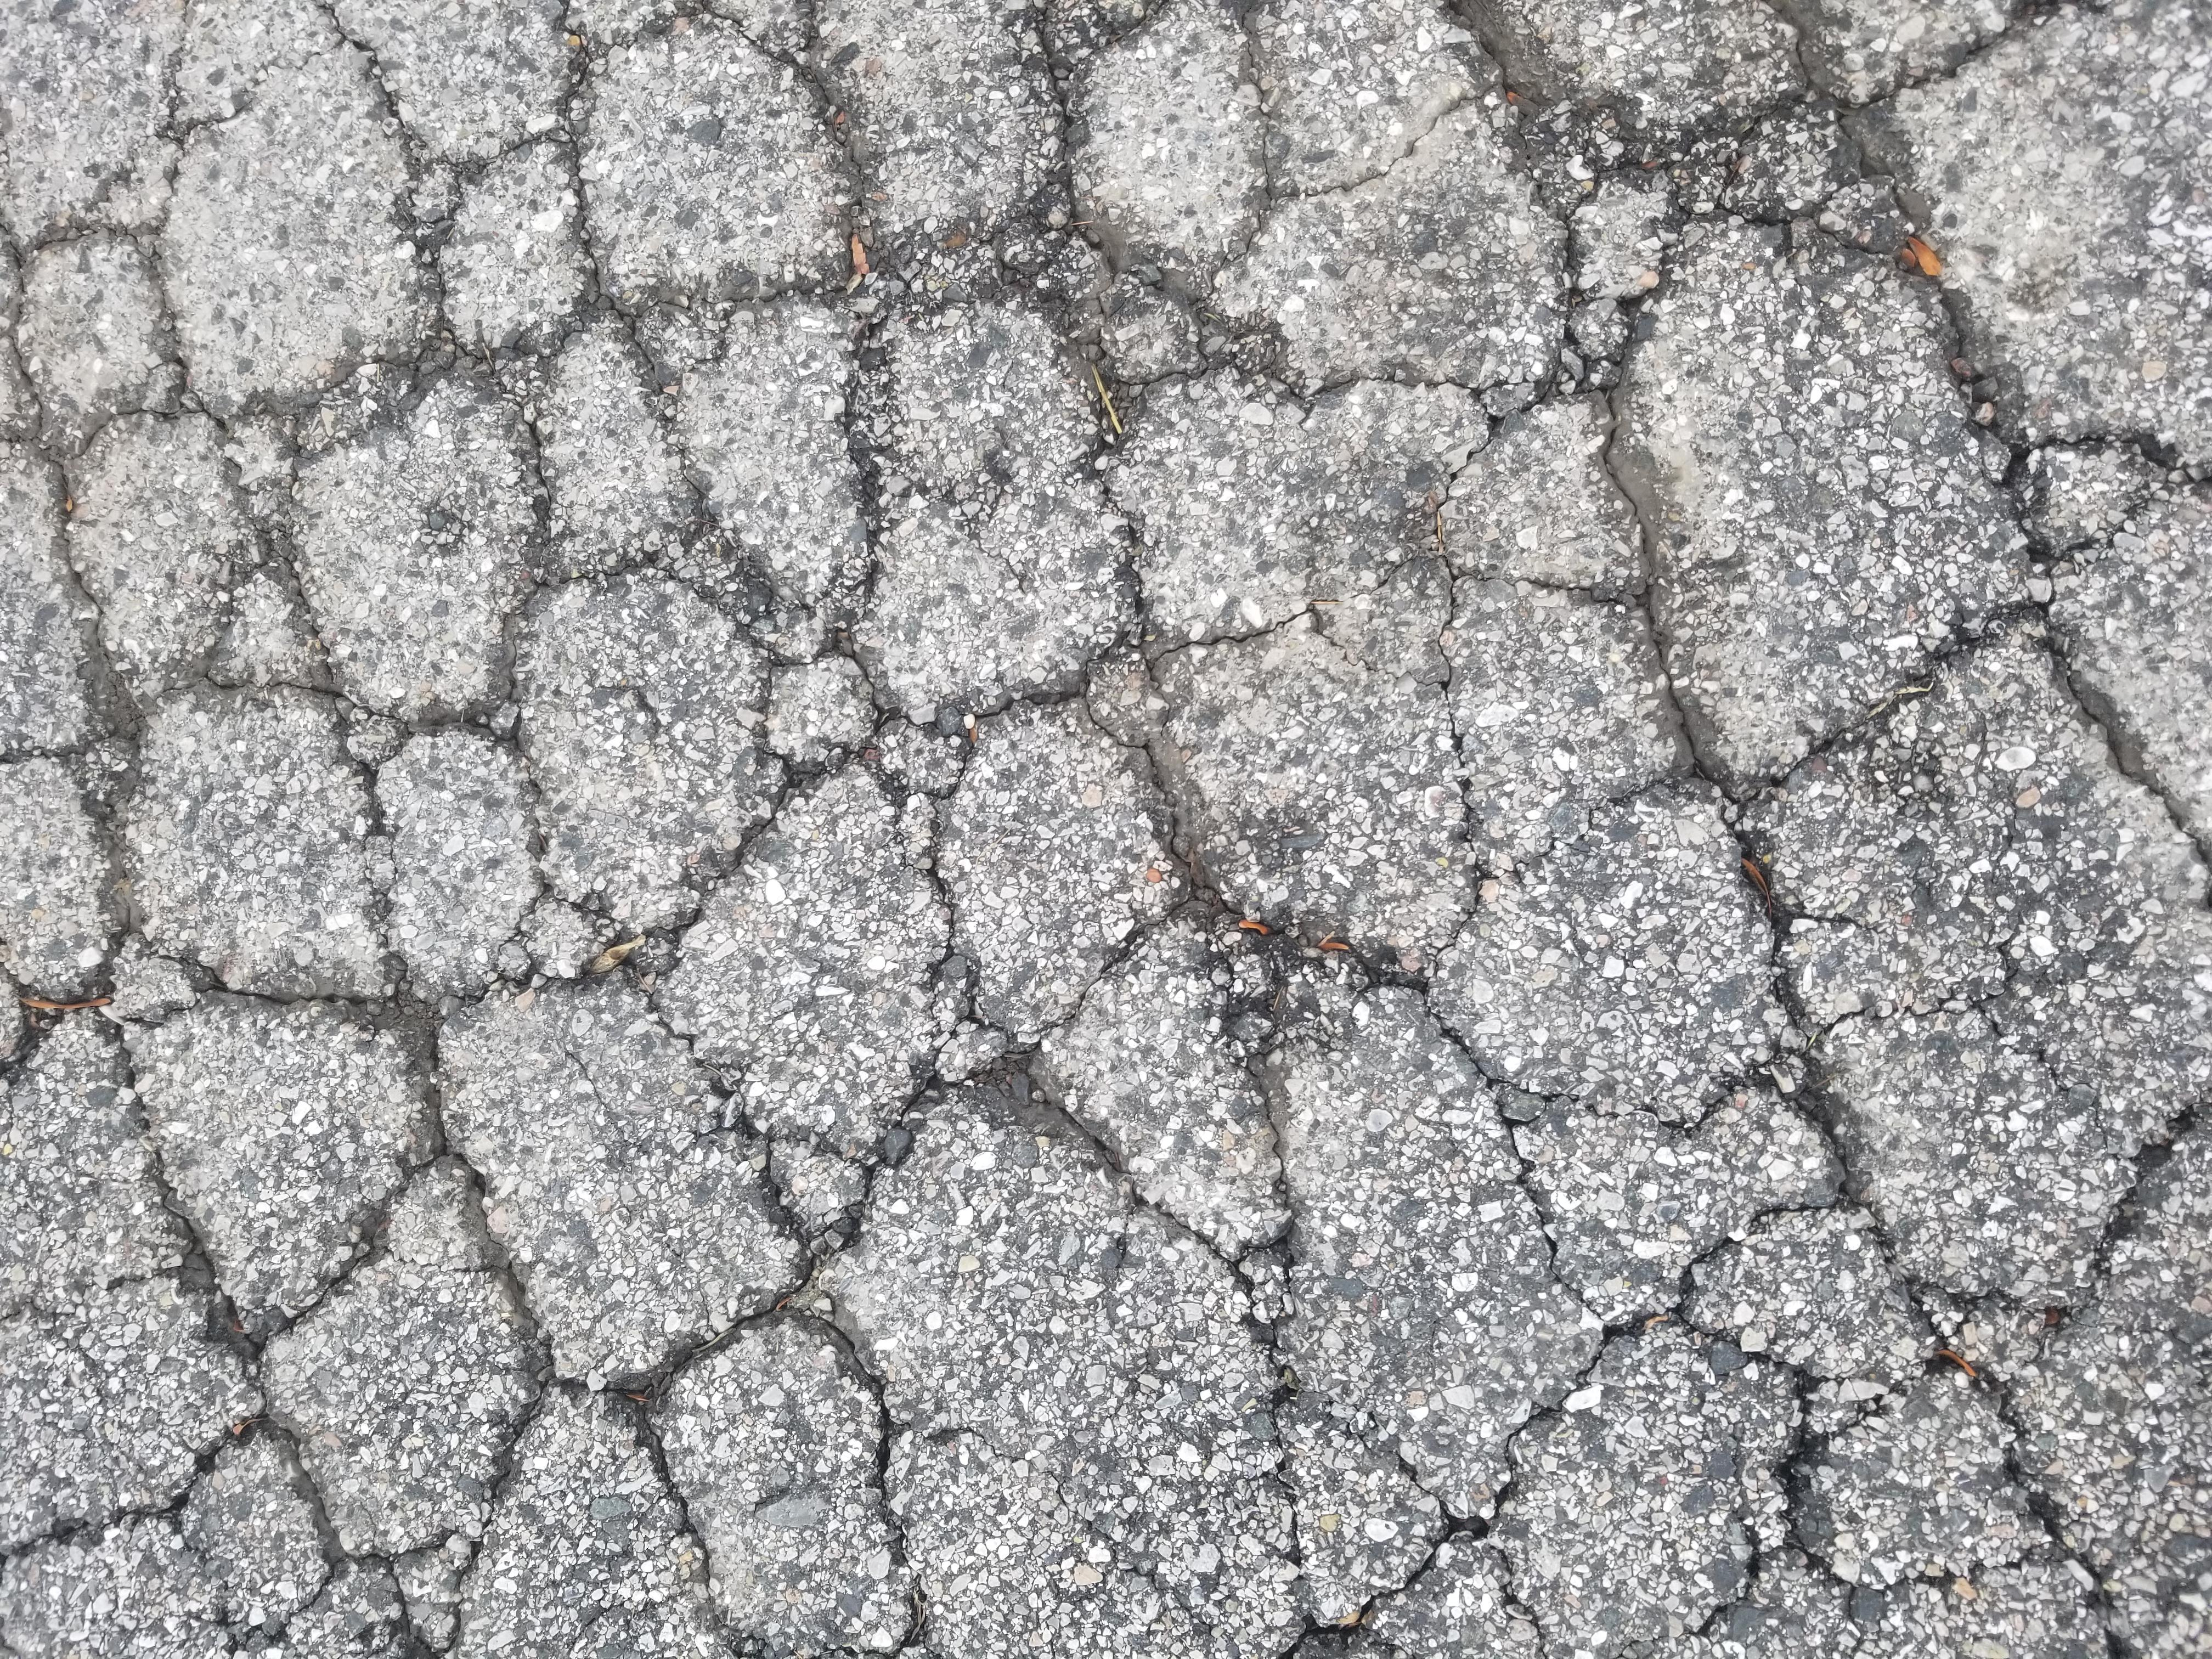alligator-crack: (26, 3, 2212, 1659)
